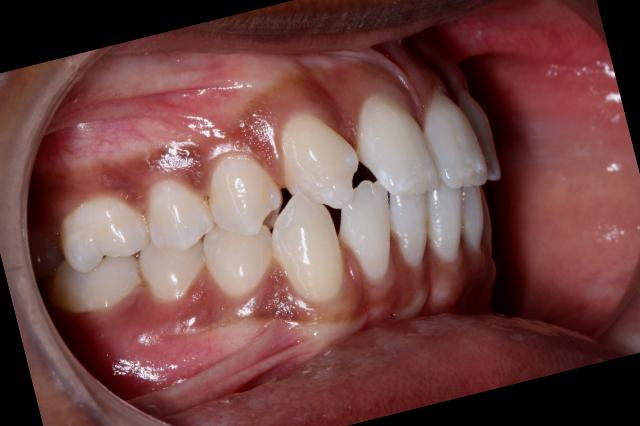canine class II full class: (174, 90, 393, 322)
molar class II full class: (26, 174, 170, 330)
